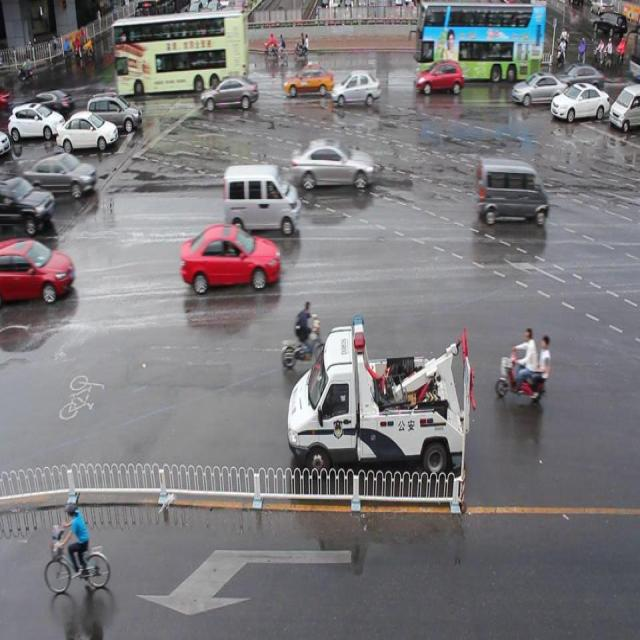car: (181, 223, 281, 290), (1, 236, 76, 308), (291, 137, 374, 195), (549, 83, 608, 121), (510, 72, 569, 105), (202, 78, 258, 112), (329, 71, 381, 106), (553, 62, 604, 94), (414, 62, 462, 94), (282, 66, 332, 96)
truck: (223, 162, 300, 234), (474, 156, 547, 224)
van: (416, 1, 543, 81), (110, 16, 248, 89)
